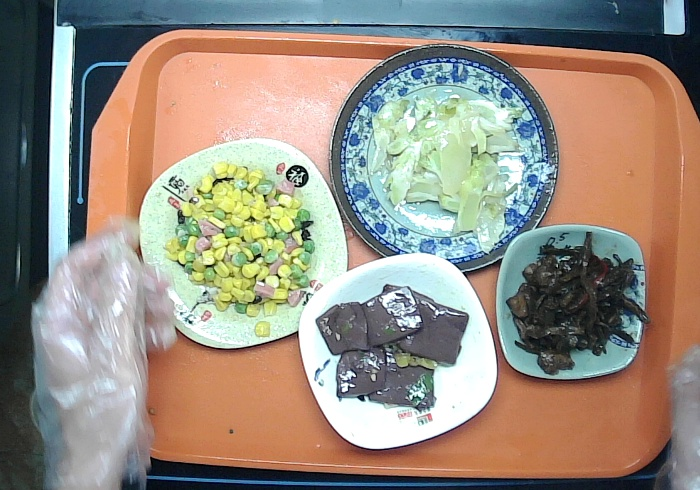NLDX-Bai_Se_Xiao_Fang_Die: (297, 250, 497, 449)
NLDX-Fu_Zi_Fang_Die: (138, 136, 347, 350)
NLDX-Qing_Hua_Xiao_Fang_Die: (493, 222, 649, 381)
NLDX-Qing_Hua_Yuan_Die: (331, 47, 559, 273)
